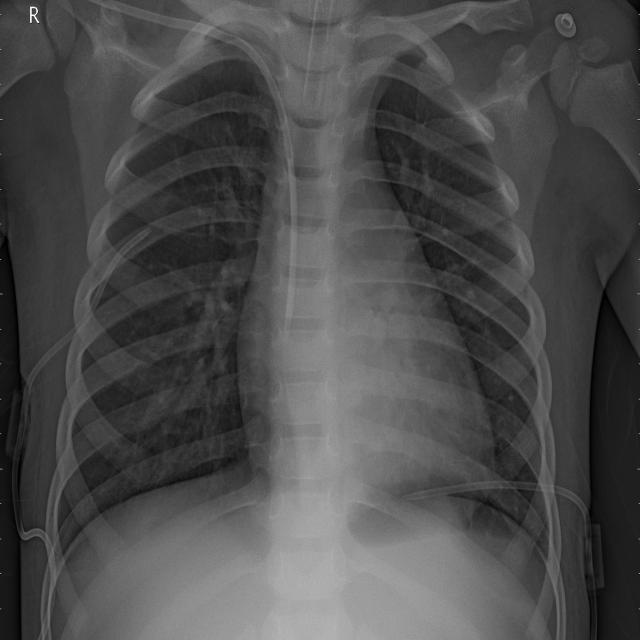no-pneumonia: (50, 55, 276, 579), (375, 74, 560, 572)
